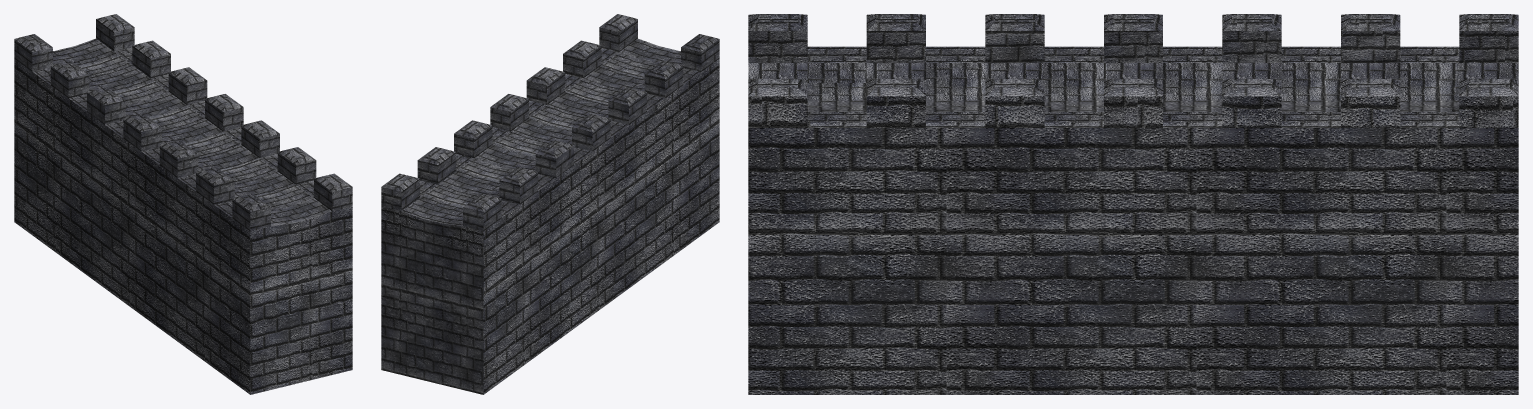
Rendered from Wall.fbx.
3 renders of one model, left to right at view 1: azimuth 30°, elevation 25°; view 2: azimuth 150°, elevation 25°; view 3: azimuth 270°, elevation 25°, orthographic. The views are drawn at different scales.
Visible parts, largest first — view 1: pCube1; view 2: pCube1; view 3: pCube1.
Part boxes in pixels (bbox=[...]): pCube1: bbox=[14, 14, 352, 394]; pCube1: bbox=[381, 14, 719, 394]; pCube1: bbox=[748, 14, 1518, 394].
Size of the model in its own units: 5.7 by 9.91 by 22.79.
Materials: 1 (1 with a texture image).
